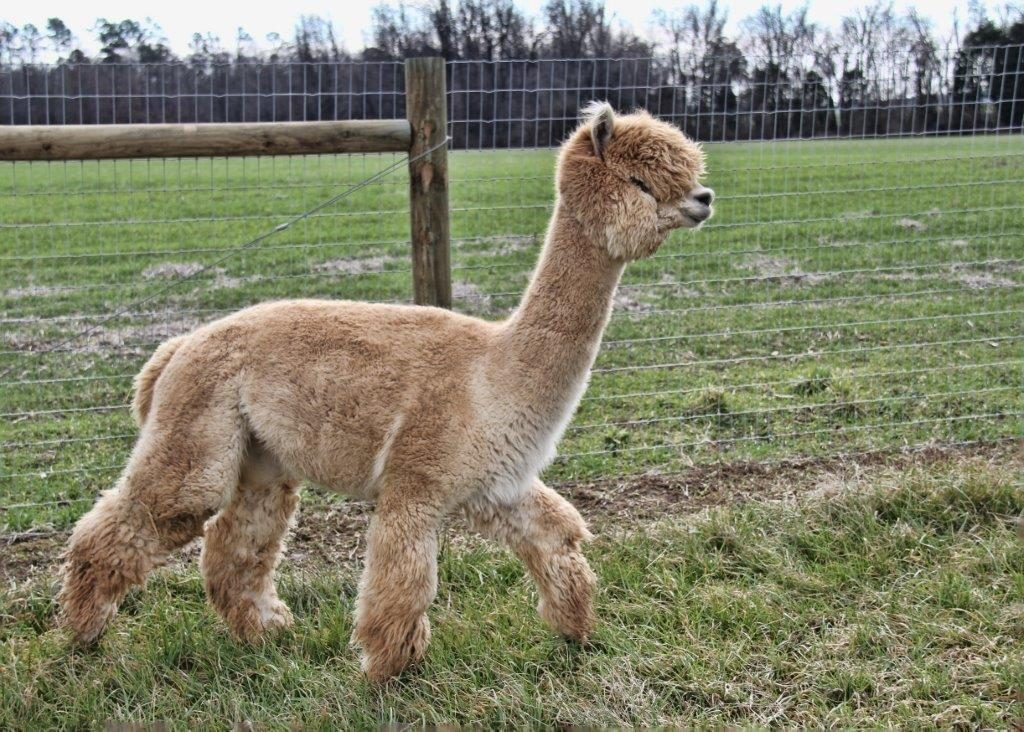alpaca: (57, 96, 717, 692)
